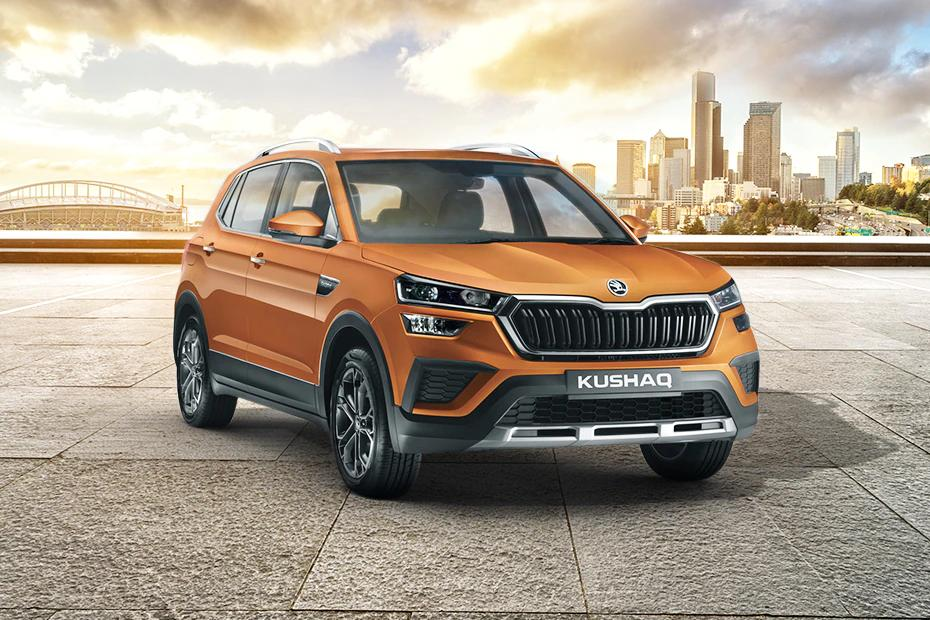skoda: (602, 272, 634, 305)
